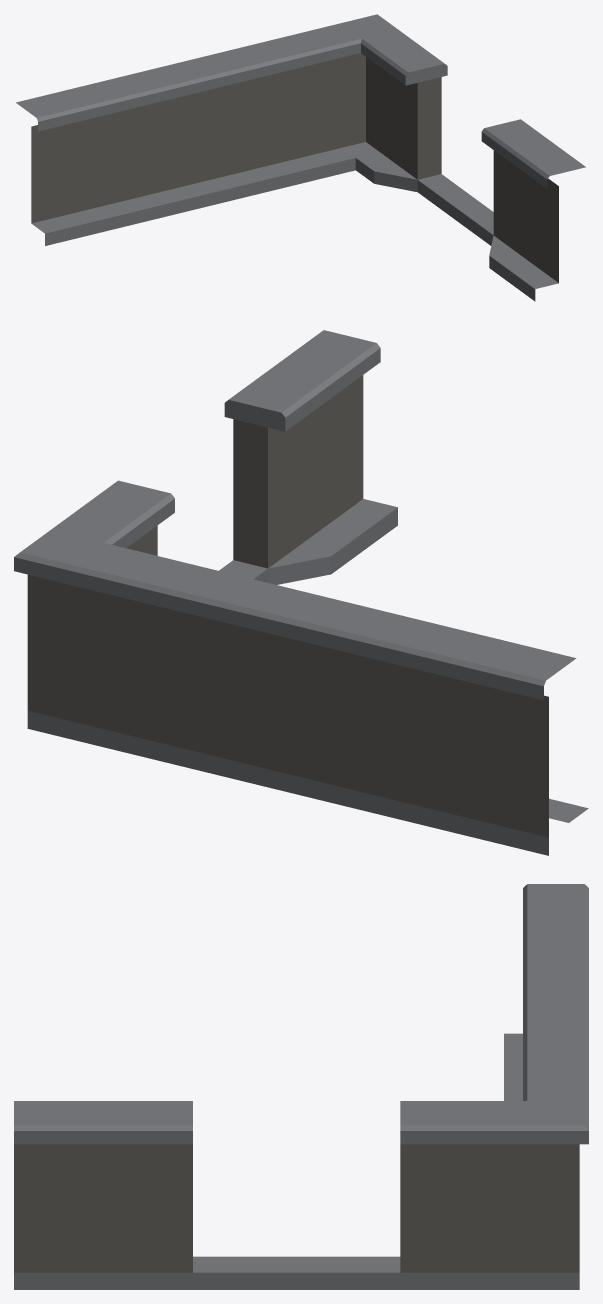
The model's file is SM_Roof_Corner_In_Ladder_R.gltf.
3 renders of one model, top to bottom at view 1: azimuth 30°, elevation 25°; view 2: azimuth 150°, elevation 25°; view 3: azimuth 270°, elevation 25°, orthographic. The views are drawn at different scales.
Visible parts, largest first — view 1: SM_Roof_Corner_In_Ladder_R; view 2: SM_Roof_Corner_In_Ladder_R; view 3: SM_Roof_Corner_In_Ladder_R.
Boxes of the visible parts, x1,y1,x2,y2 form: SM_Roof_Corner_In_Ladder_R: [16, 14, 585, 301]; SM_Roof_Corner_In_Ladder_R: [14, 330, 588, 855]; SM_Roof_Corner_In_Ladder_R: [14, 884, 588, 1289].
Size of the model in its own units: 3.05 by 0.9755 by 3.05.
1 material, 1 textured.
